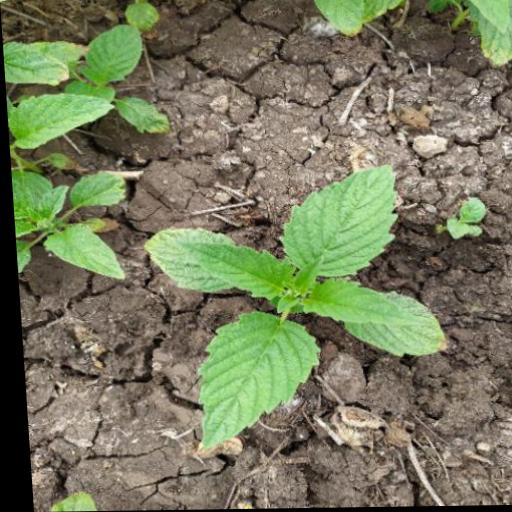crop: (136, 170, 444, 460), (1, 18, 160, 153), (9, 158, 135, 285)
